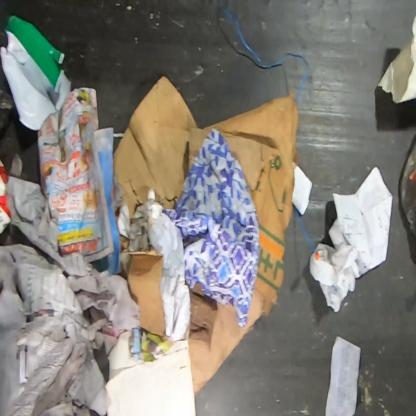cardboard: (112, 73, 302, 400), (118, 247, 166, 336)
rigid_plastic: (0, 13, 72, 132)
soft_plastic: (400, 135, 415, 243)
